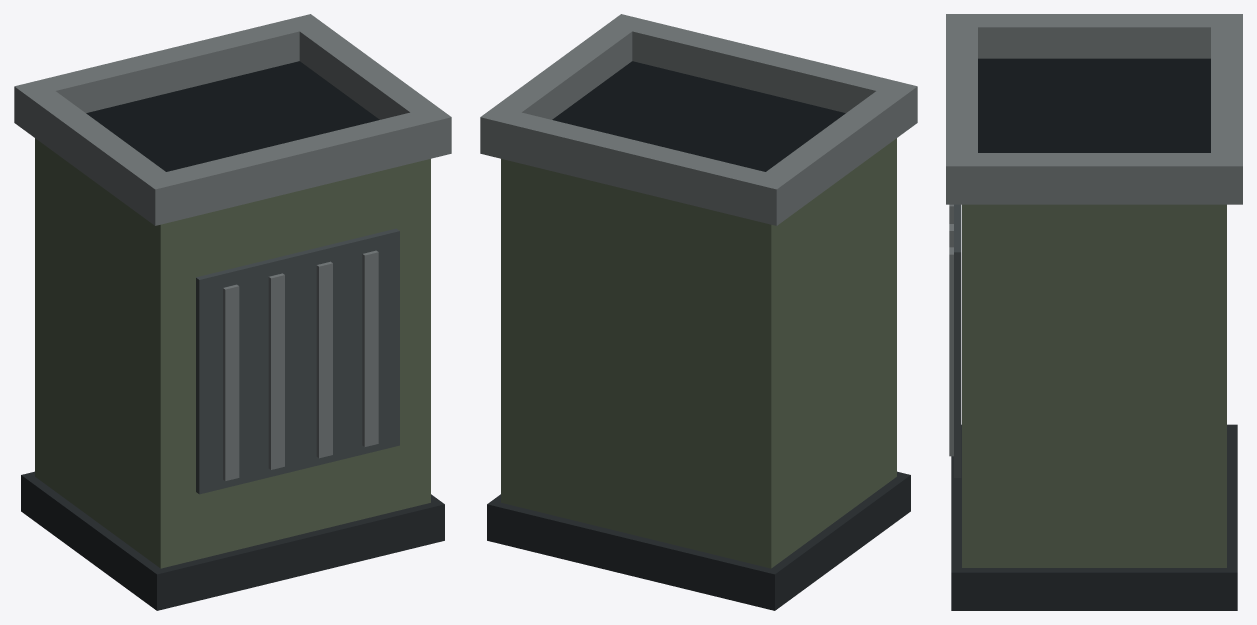
Rendered from CMU3DTrashBinGreen.glb.
3 views of the same model, side by side, from view 1: azimuth 30°, elevation 25°; view 2: azimuth 150°, elevation 25°; view 3: azimuth 270°, elevation 25° (orthographic). The views are drawn at different scales.
Visible parts, largest first — view 1: bin body, front panel, base, opening, rim front, front grille (×4), rim back, rim left, rim right; view 2: bin body, base, opening, rim back, rim front, rim left, rim right; view 3: bin body, opening, base, rim right, rim left, rim front, rim back, front panel, front grille.
Part boxes in pixels (x1,y1,x2,y2): bin body: (35, 138, 430, 568); front panel: (196, 228, 399, 494); base: (21, 471, 444, 610); opening: (86, 61, 379, 171); rim front: (140, 106, 451, 225); front grille (×4): (223, 250, 378, 481); rim back: (14, 14, 325, 133); rim left: (29, 91, 165, 214); rim right: (299, 25, 436, 119); bin body: (501, 138, 896, 568); base: (487, 471, 910, 610); opening: (552, 61, 845, 171); rim back: (480, 106, 791, 225); rim front: (606, 14, 917, 133); rim left: (766, 91, 902, 214); rim right: (495, 25, 632, 119); bin body: (962, 204, 1226, 567); opening: (978, 58, 1210, 152); base: (951, 424, 1237, 610); rim right: (978, 153, 1210, 204); rim left: (978, 14, 1210, 58); rim front: (946, 14, 977, 204); rim back: (1211, 14, 1242, 204); front panel: (954, 204, 961, 477); front grille: (949, 247, 953, 456).
Bounding box in the file's own units: 0.68 × 0.93 × 0.56.
